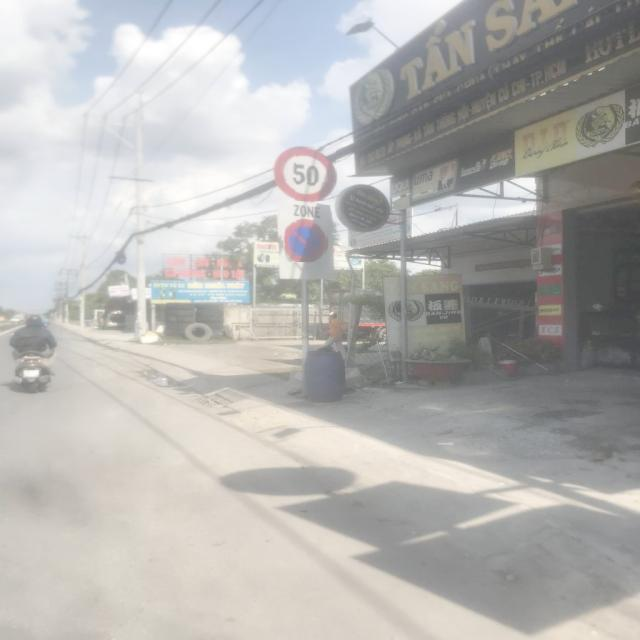127-toc-do-toi-da-50: (274, 146, 336, 204)
131a-cam-do-xe: (286, 218, 330, 261)
